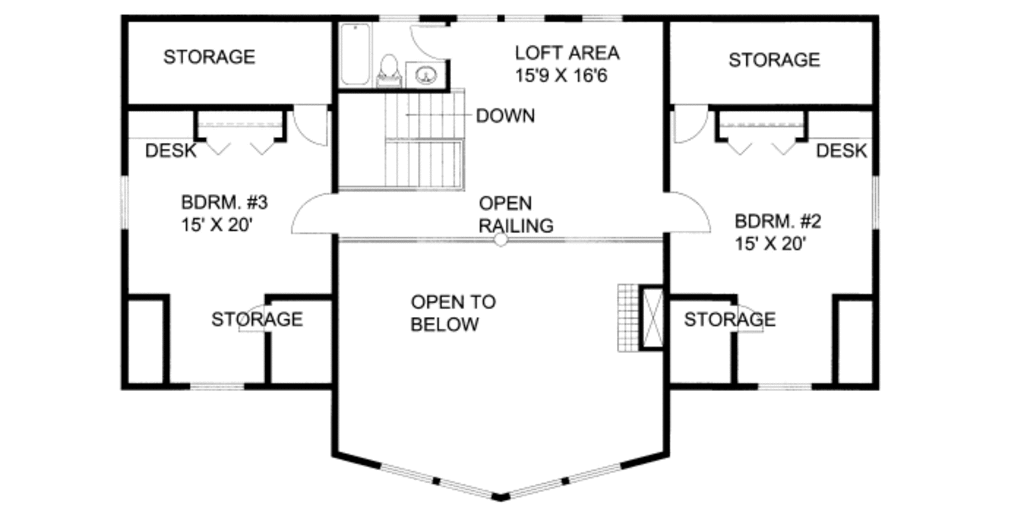door: (291, 190, 347, 234), (663, 187, 713, 234), (669, 100, 710, 147), (408, 21, 452, 64), (288, 105, 333, 147), (236, 302, 280, 334), (731, 303, 764, 332)
large_sink: (378, 46, 405, 86)
small_sink: (408, 61, 452, 94)
stairs: (338, 89, 475, 194)
tub: (340, 20, 374, 89)
window: (501, 7, 545, 24), (376, 11, 418, 23), (583, 13, 624, 24), (457, 12, 496, 23), (872, 177, 880, 225)
